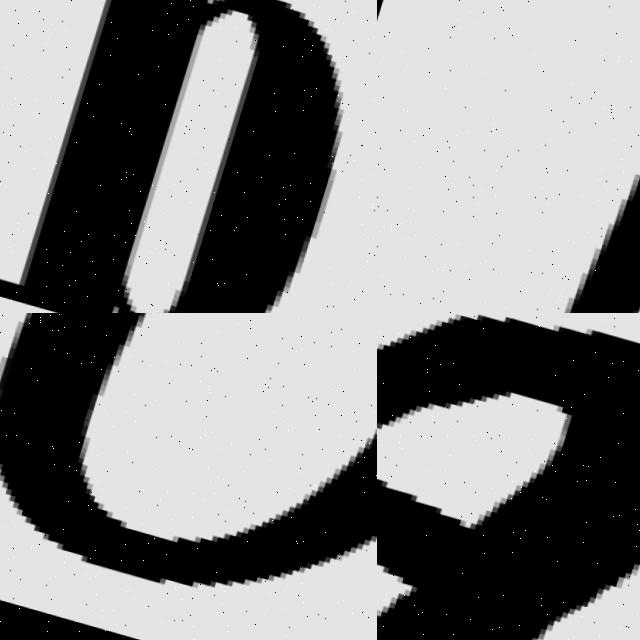E: (377, 313, 640, 640)
I: (476, 0, 640, 313)
O: (0, 313, 377, 584)
Q: (0, 0, 377, 313)
